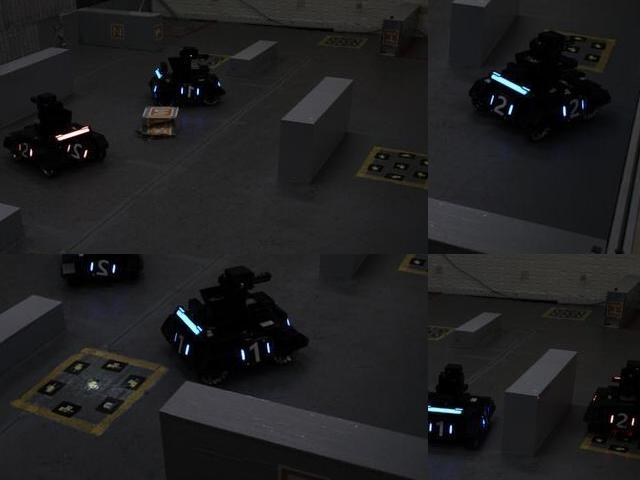armor: (234, 338, 273, 369), (485, 86, 517, 123), (168, 324, 197, 363), (84, 256, 121, 281), (428, 416, 460, 443), (605, 407, 639, 431), (63, 141, 93, 164), (12, 137, 36, 163), (558, 97, 586, 119), (178, 83, 204, 103)
